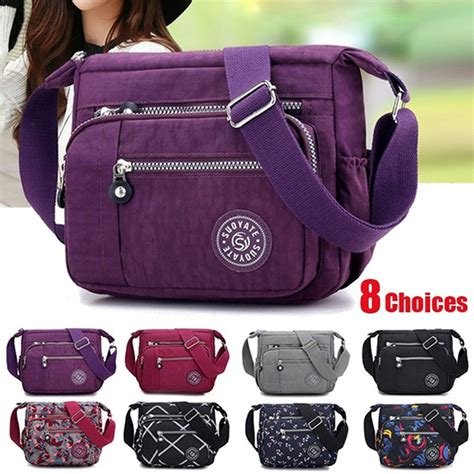nylon: (16, 45, 468, 471)
